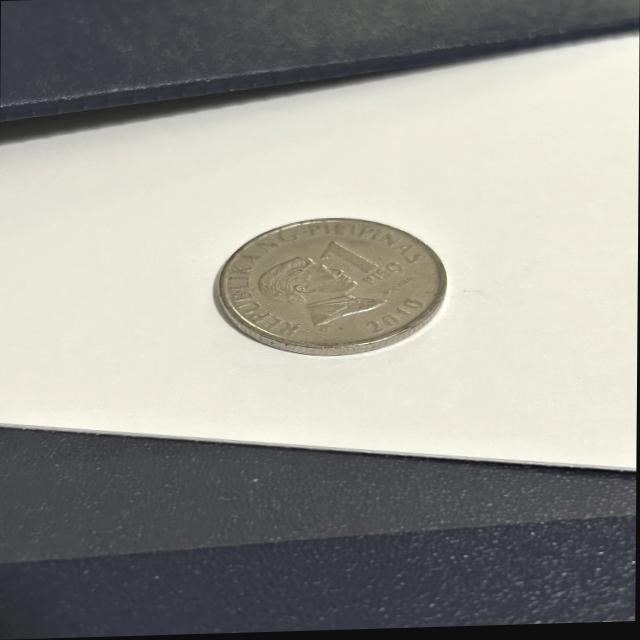1_Old_Front: (317, 236, 405, 294)
